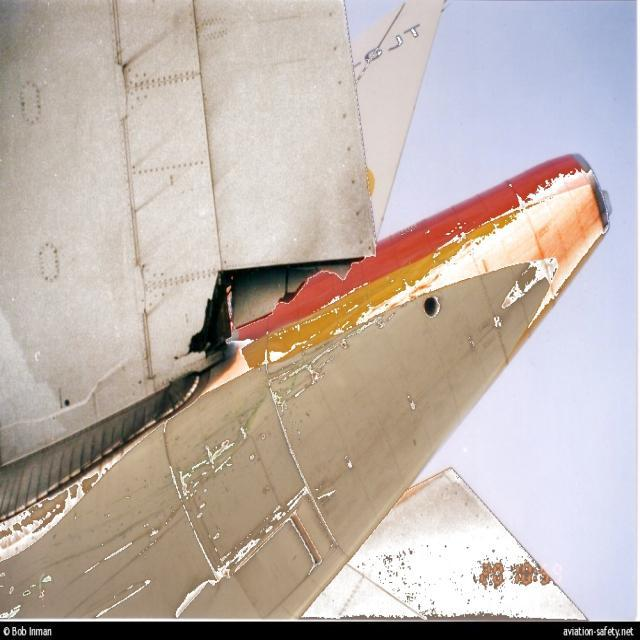crack: (169, 256, 373, 366)
